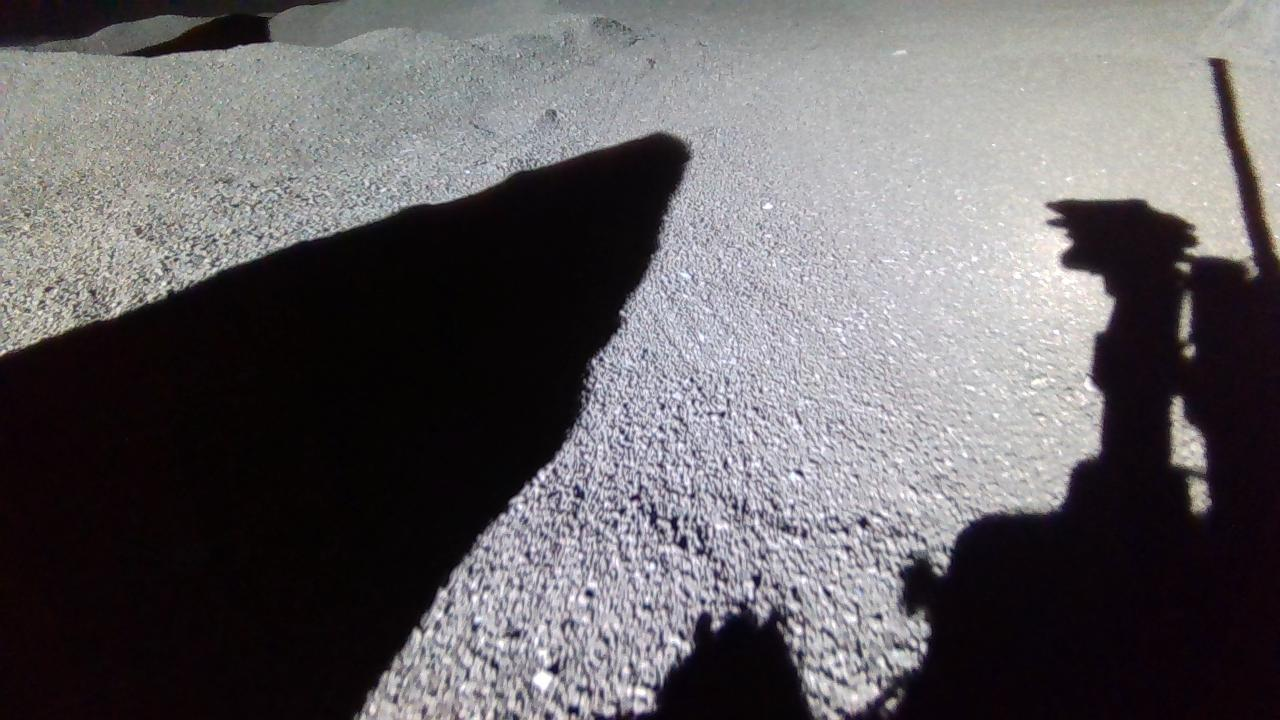rock: (1201, 0, 1280, 68)
